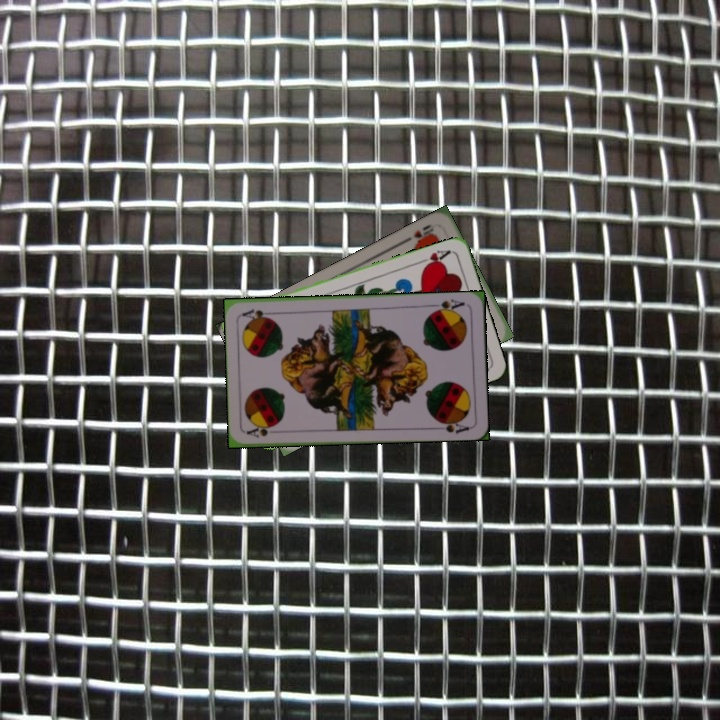HA: (414, 246, 454, 271)
HO: (400, 220, 438, 247)
SA: (428, 295, 467, 316), (243, 422, 279, 440)
